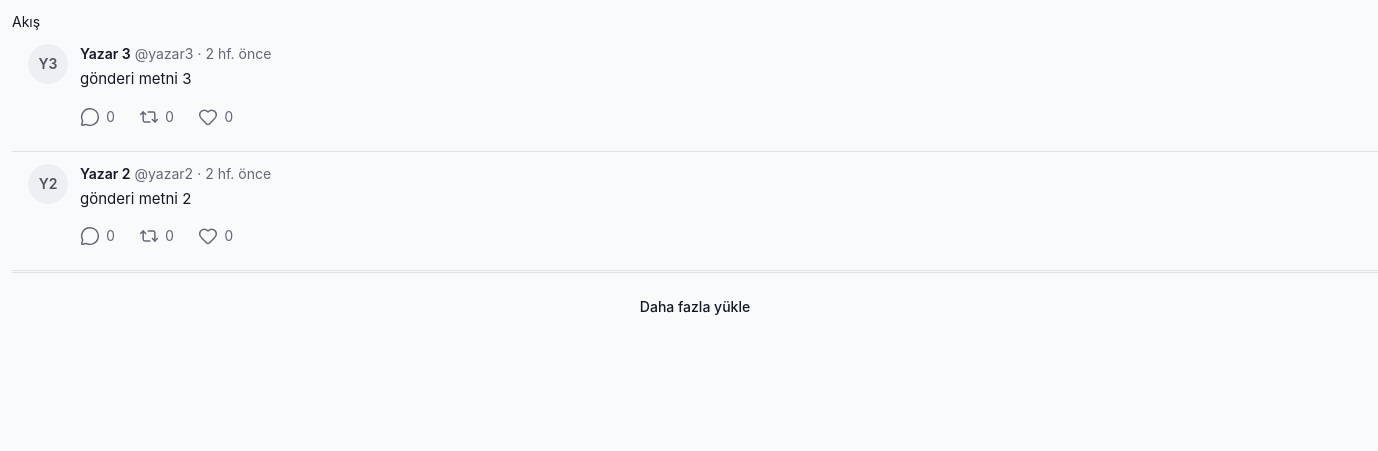
Test: FeedList › "Daha fazla yükle" sonraki sayfayı imleçle ister; son sayfada buton yerine bitiş metni
Click the button "Daha fazla yükle".
click(695, 307)  # box left=624, top=285, right=766, bottom=329
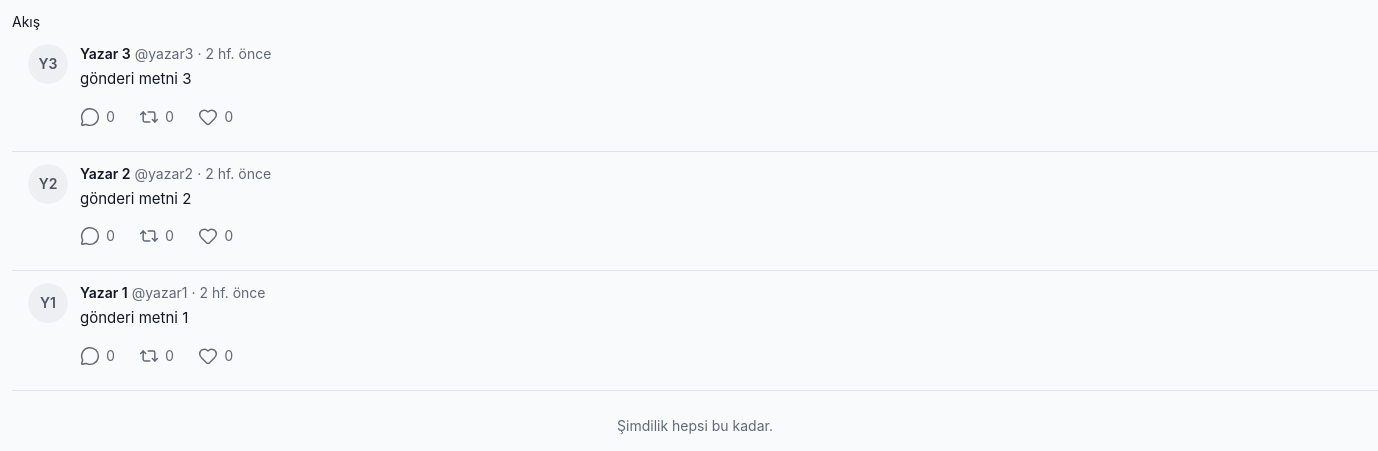
Expected: the button "Daha fazla yükle" is gone
Expected: the text with test id "feed-end" reads "Şimdilik hepsi bu kadar.", left=617, top=416, right=773, bottom=434
